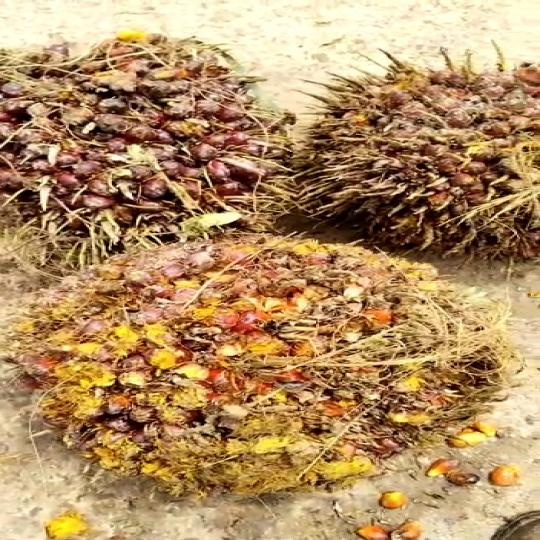masak: (30, 231, 510, 510), (0, 34, 310, 261), (304, 48, 540, 262)
